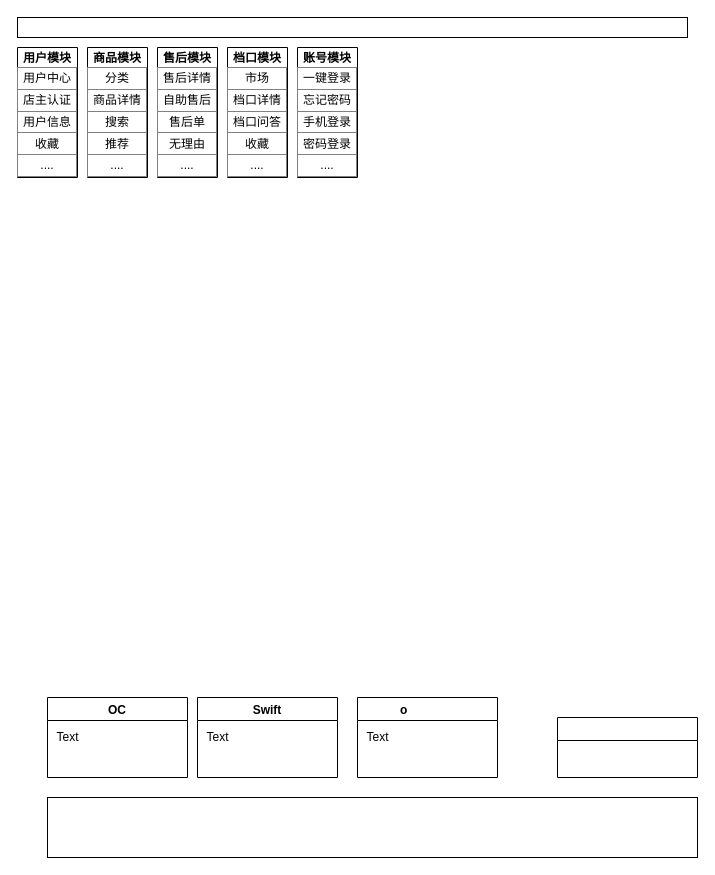
This 715x875 diagram has some shape labels left out. The centre of each missing label's shape, as x and y in pixels:
"Flutter" belongs at point 627,747.
"Foundation" belongs at point 372,827.
"一手App" belongs at point 352,27.
